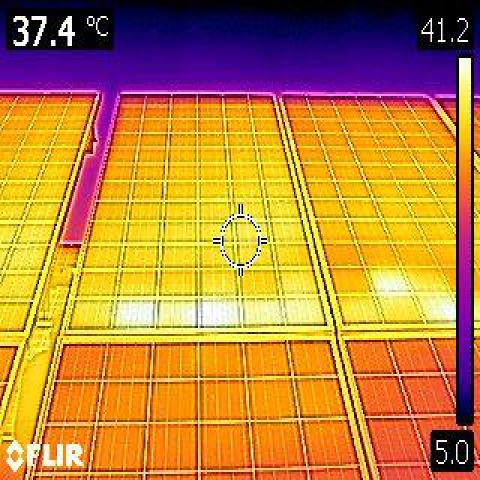fault: (364, 264, 411, 294), (415, 295, 460, 322), (199, 300, 242, 327), (117, 302, 158, 328)
